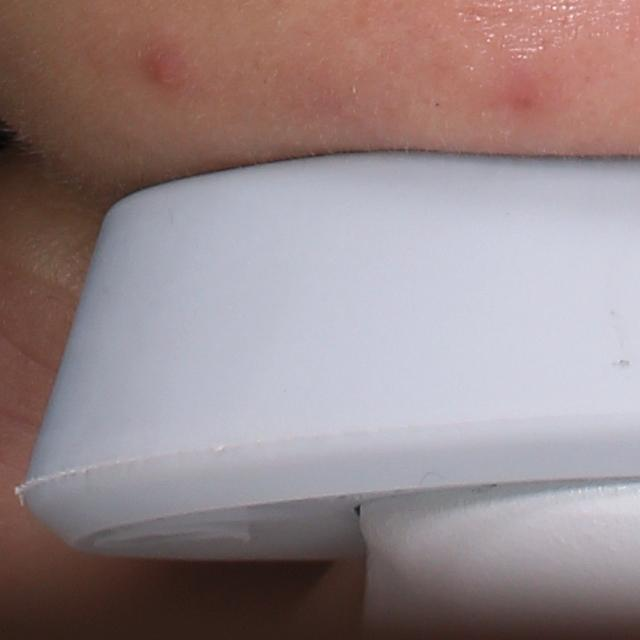papule: (137, 45, 189, 94)
